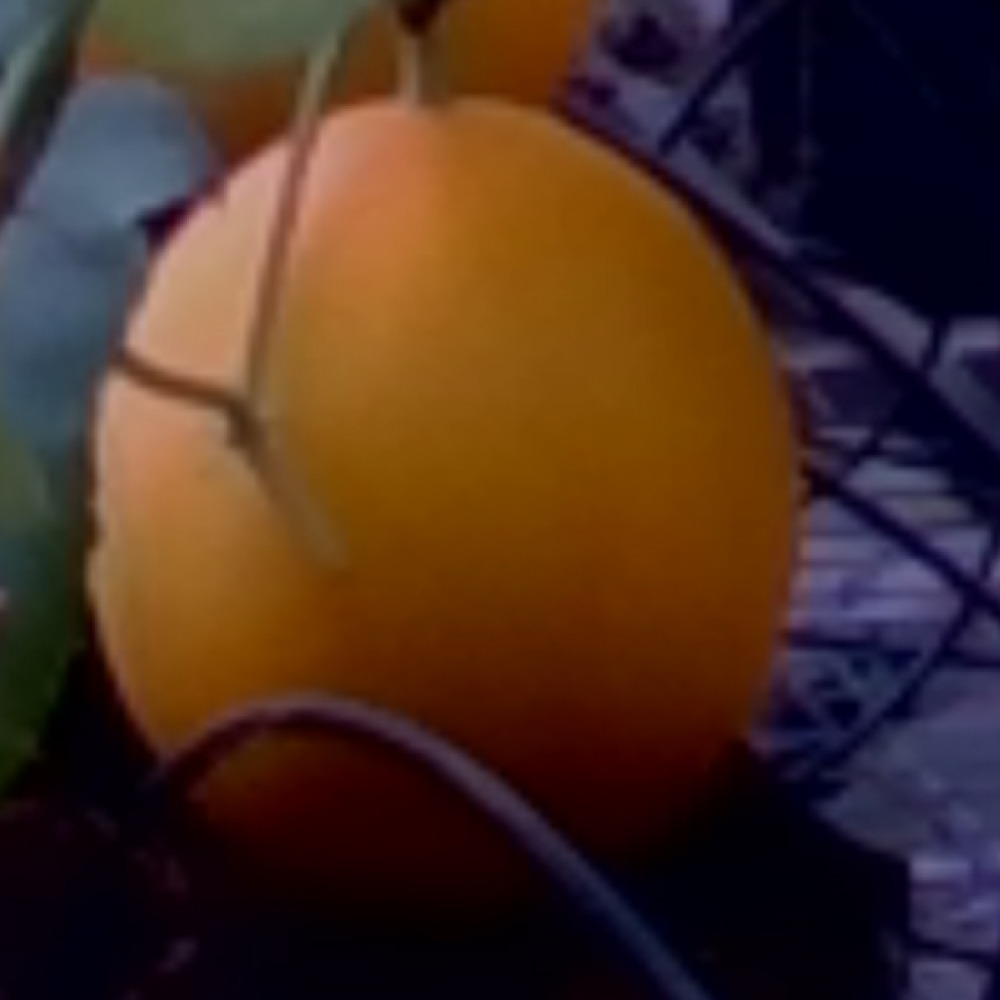melon: (83, 88, 807, 923)
